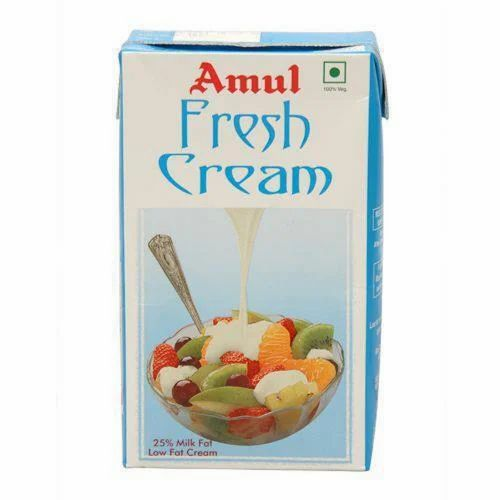Amul: (183, 56, 308, 97)
